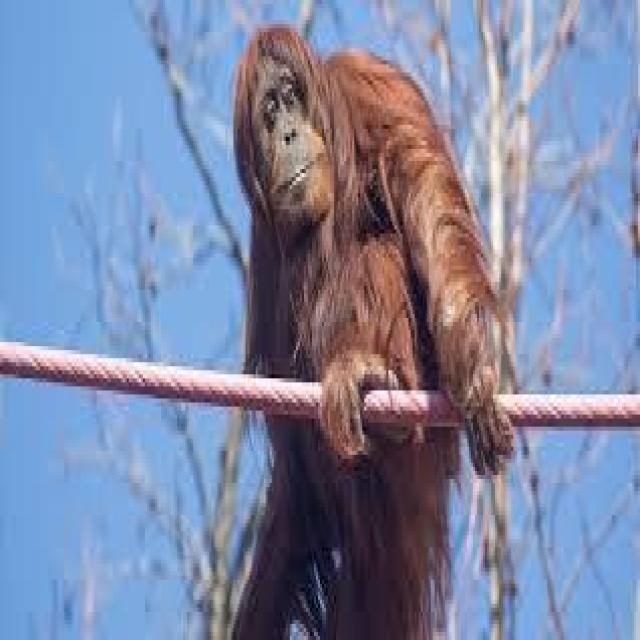Chimpanzee: (185, 14, 558, 630)
